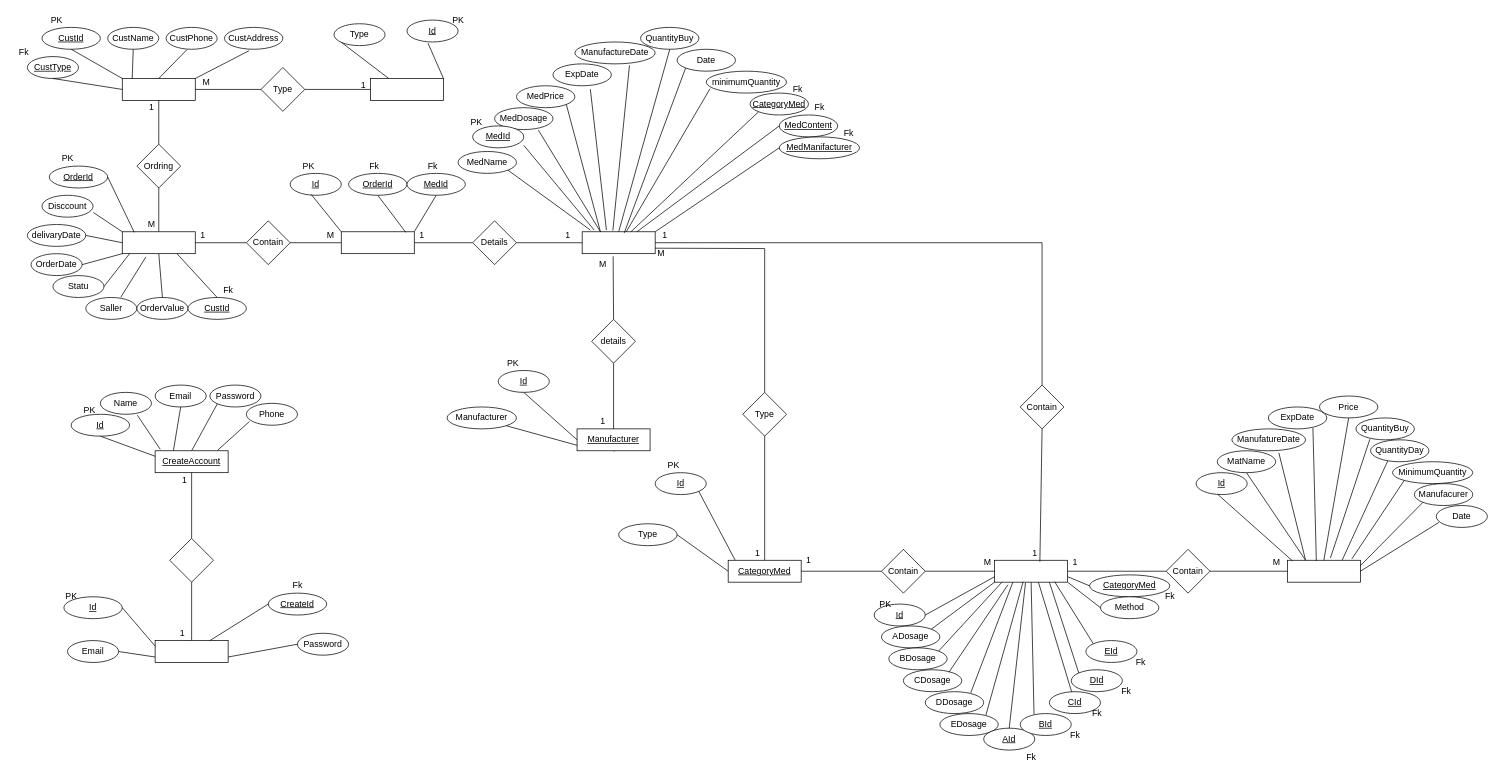
Some shapes in this 1500 by 777 pixel diagram are drawn without their labels. The shapes that lost their labels are listed below. From the top down, each one's centre as x and y in pixels, then its label:
At (158,89): "Customers".
At (406,89): "customertype".
At (158,242): "Orders".
At (377,242): "OrderContent".
At (618,242): "Medicines".
At (191,560): "data".
At (1031,571): "MedicineContent".
At (1323,571): "MatrialsStore".
At (191,651): "Admin".
